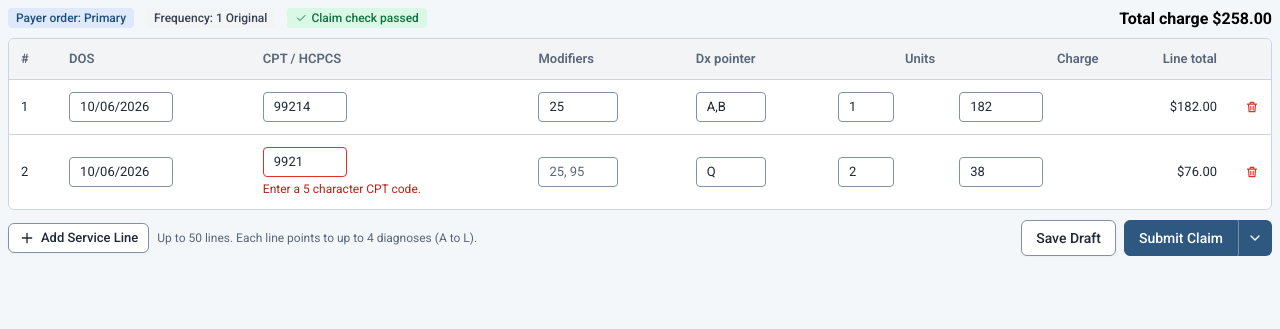
Test case: ClaimForm › edits, adds and removes lines, reporting every change
Replace the text in the field named "Charge line 1" with "200": (1001, 106) [959, 92, 1043, 122]
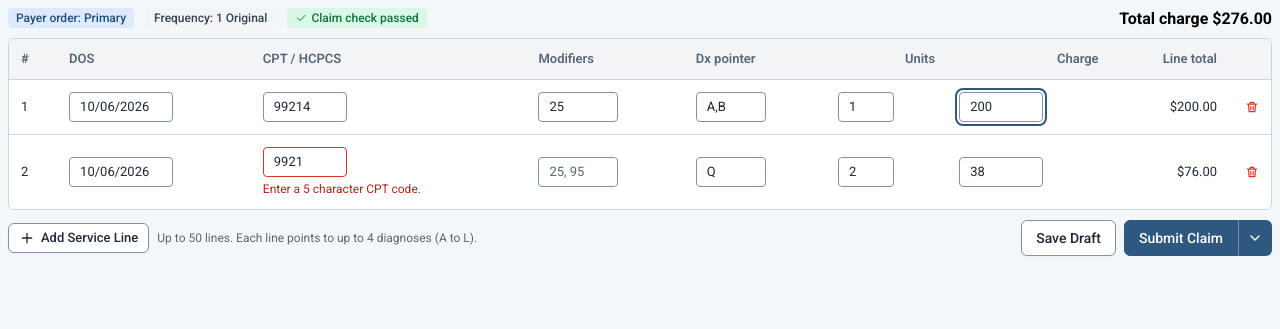
Expected: the text "Total charge $276.00" is shown, [1119, 8, 1272, 28]
Click the button "Add Service Line": (79, 238) [8, 222, 149, 252]
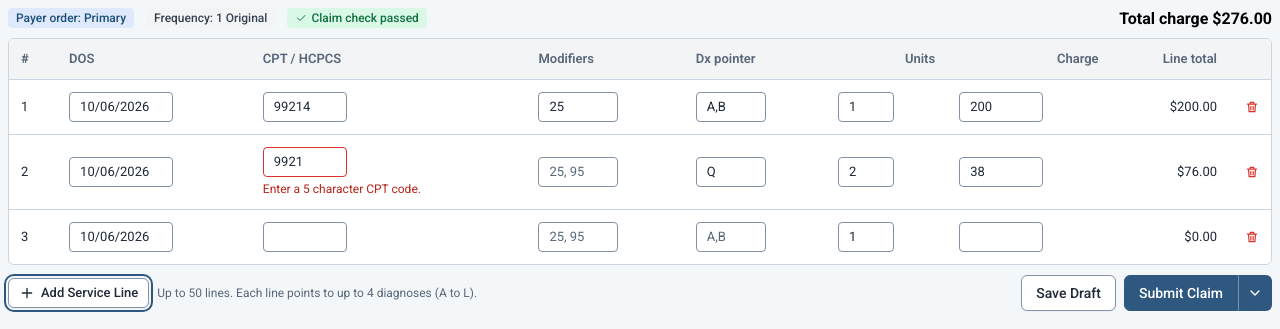
Expected: the field named "DOS line 3" holds "10/06/2026", [69, 222, 173, 252]
Click the button named "Remove line 1": (1252, 106) [1237, 92, 1267, 122]
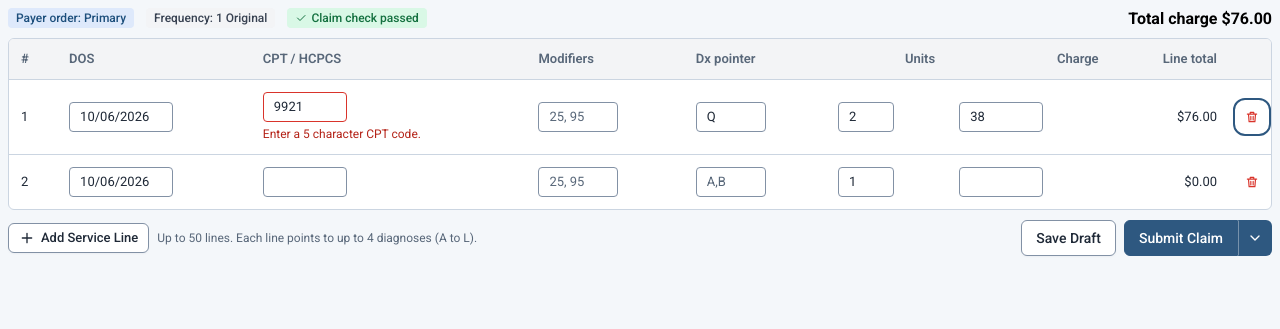
Expected: the field named "CPT / HCPCS line 1" holds "9921", [263, 92, 347, 122]
